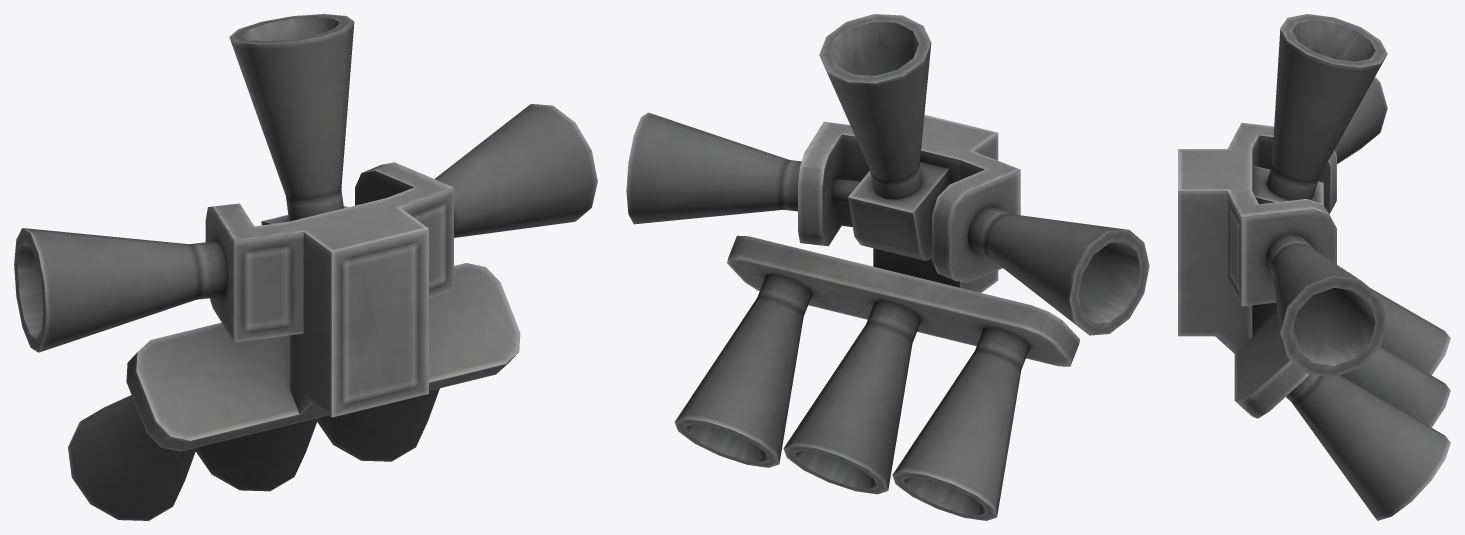
File: inv4.obj
The picture shows the model from 3 angles, left to right: view 1: azimuth 30°, elevation 25°; view 2: azimuth 150°, elevation 25°; view 3: azimuth 270°, elevation 25°; orthographic projection. The views are drawn at different scales.
Parts seen in each view (by area): view 1: i4; view 2: i4; view 3: i4.
Boxes of the visible parts, x1=… form: i4: x1=14, y1=14, x2=597, y2=520; i4: x1=626, y1=14, x2=1149, y2=520; i4: x1=1178, y1=14, x2=1450, y2=520.
Size of the model in its own units: 0.5672 by 0.4846 by 0.276.
Materials: 1 (1 with a texture image).
